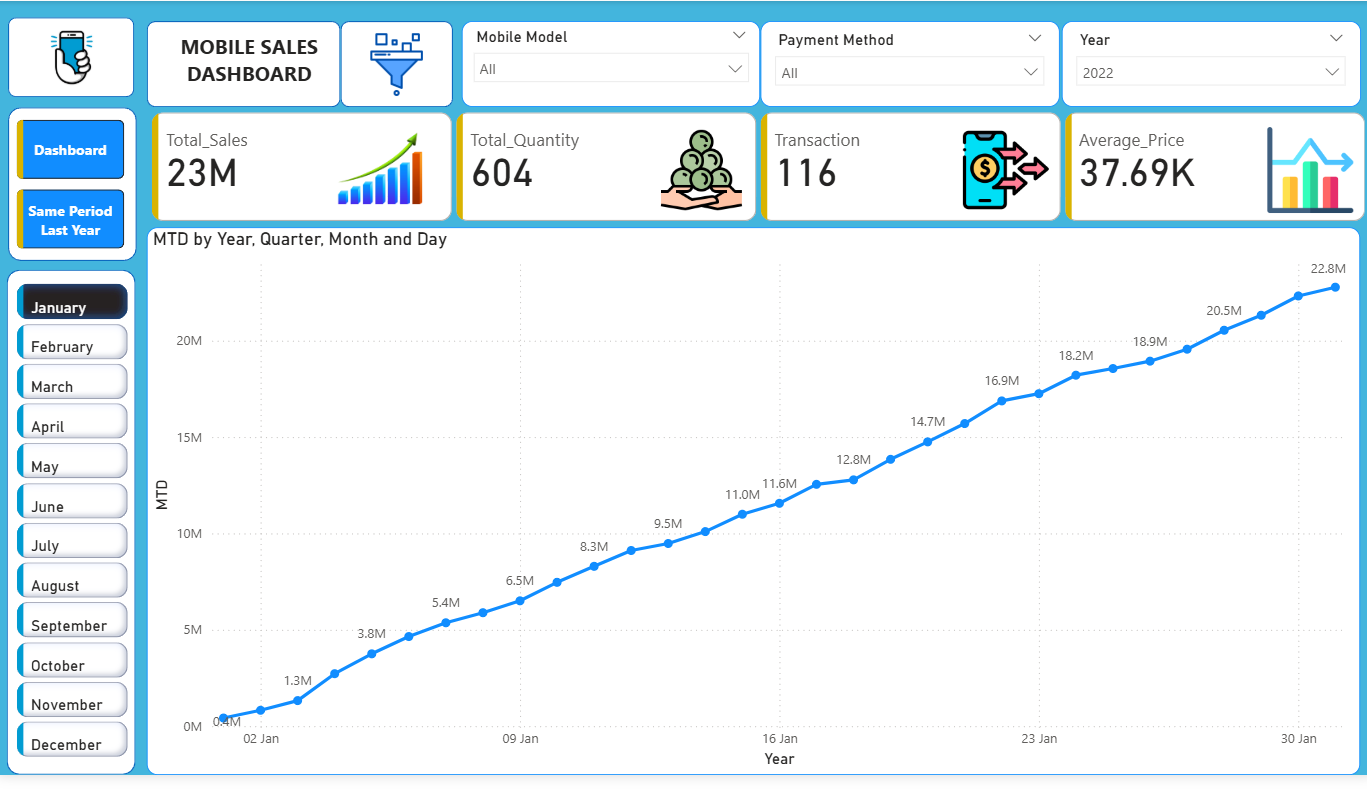

What the dashboard file says about the page in this screenshot:
{"tool":"powerbi","page":{"name":"MTD Report","canvas":[1280,720],"ordinal":1},"visuals":[{"type":"shape","box":[8.1,250,119.8,469.8],"z":0},{"type":"shape","box":[9.3,15.1,117.4,74.4],"z":1000},{"type":"image","box":[31.4,15.1,74.4,74.4],"z":2000},{"type":"shape","box":[9.3,98.8,119.8,143],"z":3000},{"type":"cardVisual","fields":{"Data":["Sales_Data.Total_Sales","Sales_Data.Total_Quantity","Sales_Data.Transaction","Sales_Data.Average_Price"]},"box":[138.4,98.8,1141.9,111.6],"z":4000},{"type":"slicer","fields":{"Values":["Sales_Data.Payment Method"]},"box":[709.3,18.6,278,80.2],"z":5000},{"type":"slicer","fields":{"Values":["Custom_Calendar.Date.Variation.Date Hierarchy.Year"]},"box":[989.5,18.6,278,80.2],"z":6000},{"type":"slicer","fields":{"Values":["Sales_Data.Mobile Model"]},"box":[431.4,18.6,277.9,80.2],"z":7000},{"type":"shape","box":[318.6,18.6,104.7,80.2],"z":8000},{"type":"image","box":[325.6,24.4,90.7,69.8],"z":9000},{"type":"shape","box":[138.4,18.6,180.2,80.2],"z":10000},{"type":"textbox","box":[160.5,24.4,146.5,65.1],"z":11000},{"type":"lineChart","fields":{"Category":["Custom_Calendar.Date.Variation.Date Hierarchy.Year","Custom_Calendar.Date.Variation.Date Hierarchy.Quarter","Custom_Calendar.Date.Variation.Date Hierarchy.Month","Custom_Calendar.Date.Variation.Date Hierarchy.Day"],"Y":["Sales_Data.MTD"]},"box":[138.4,210.5,1129.1,509.3],"z":12000},{"type":"advancedSlicerVisual","fields":{"Values":["Custom_Calendar.Date.Variation.Date Hierarchy.Month"]},"box":[12.8,258.1,114,461.6],"z":13000},{"type":"pageNavigator","box":[17.4,110.5,100,120.9],"z":13001}]}

Visuals, with their boxes on the page's 1280x720 design canvas (x1, y1, x2, y2). These are canvas units, not pixel positions in the 1367x798 screenshot, which may show the page scaled, cropped or inside an application window:
shape: (left=8, top=250, right=128, bottom=720)
shape: (left=9, top=15, right=127, bottom=90)
image: (left=31, top=15, right=106, bottom=90)
shape: (left=9, top=99, right=129, bottom=242)
cardVisual - Sales_Data.Total_Sales x Sales_Data.Total_Quantity: (left=138, top=99, right=1280, bottom=210)
slicer - Sales_Data.Payment Method: (left=709, top=19, right=987, bottom=99)
slicer - Custom_Calendar.Date.Variation.Date Hierarchy.Year: (left=990, top=19, right=1268, bottom=99)
slicer - Sales_Data.Mobile Model: (left=431, top=19, right=709, bottom=99)
shape: (left=319, top=19, right=423, bottom=99)
image: (left=326, top=24, right=416, bottom=94)
shape: (left=138, top=19, right=319, bottom=99)
textbox: (left=160, top=24, right=307, bottom=90)
lineChart - Custom_Calendar.Date.Variation.Date Hierarchy.Year x Custom_Calendar.Date.Variation.Date Hierarchy.Quarter: (left=138, top=210, right=1268, bottom=720)
advancedSlicerVisual - Custom_Calendar.Date.Variation.Date Hierarchy.Month: (left=13, top=258, right=127, bottom=720)
pageNavigator: (left=17, top=110, right=117, bottom=231)
